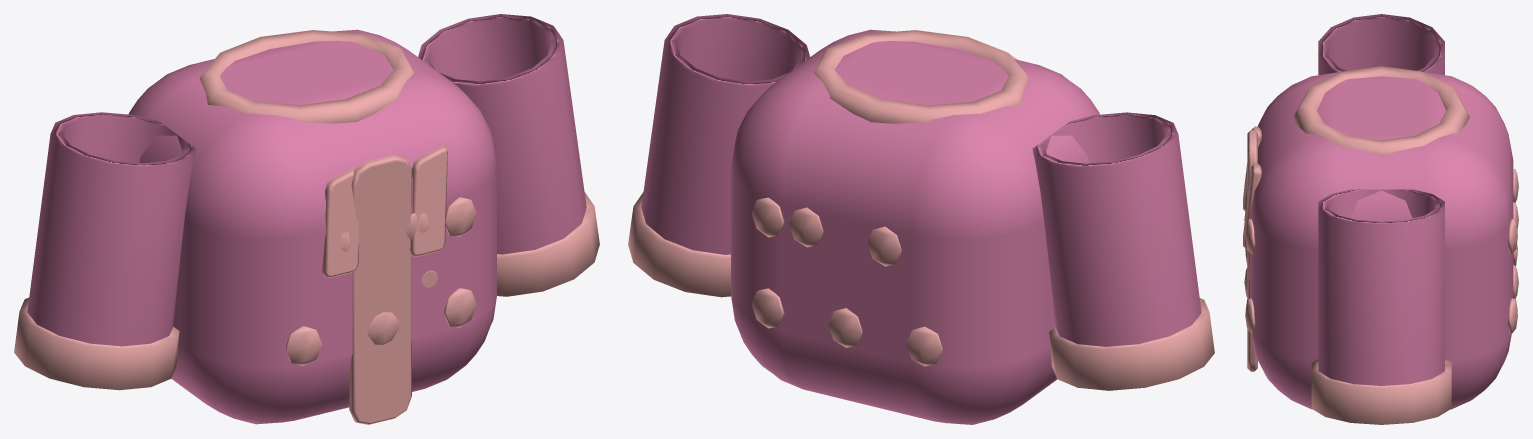
Rendered from animal_print_coat.glb.
3 views of the same model, side by side, from view 1: azimuth 30°, elevation 25°; view 2: azimuth 150°, elevation 25°; view 3: azimuth 270°, elevation 25° (orthographic). The views are drawn at different scales.
Visible parts, largest first — view 1: animal_print_coat_Body, animal_print_coat_ArmL, animal_print_coat_ArmR; view 2: animal_print_coat_Body, animal_print_coat_ArmL, animal_print_coat_ArmR; view 3: animal_print_coat_Body, animal_print_coat_ArmR, animal_print_coat_ArmL.
Part boxes in pixels (x1,y1,x2,y2): animal_print_coat_Body: (128,29,496,424); animal_print_coat_ArmL: (14,112,195,390); animal_print_coat_ArmR: (418,14,599,296); animal_print_coat_Body: (731,29,1099,424); animal_print_coat_ArmL: (1032,112,1214,390); animal_print_coat_ArmR: (628,14,809,297); animal_print_coat_Body: (1243,66,1518,409); animal_print_coat_ArmR: (1311,189,1451,424); animal_print_coat_ArmL: (1318,14,1444,75).
Size of the model in its own units: 0.6504 by 0.3419 by 0.3146.
